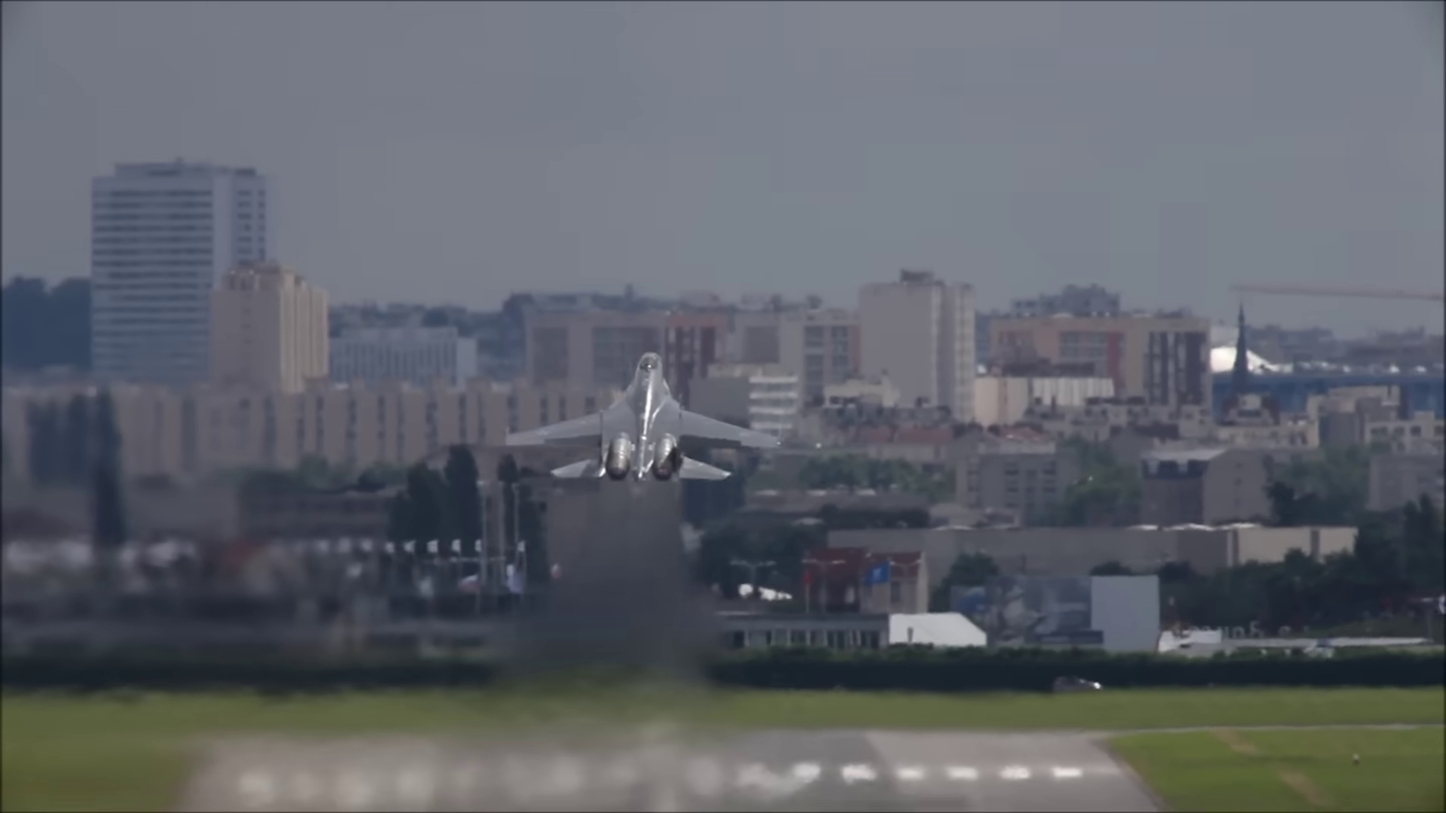Su35: (501, 339, 787, 493)
